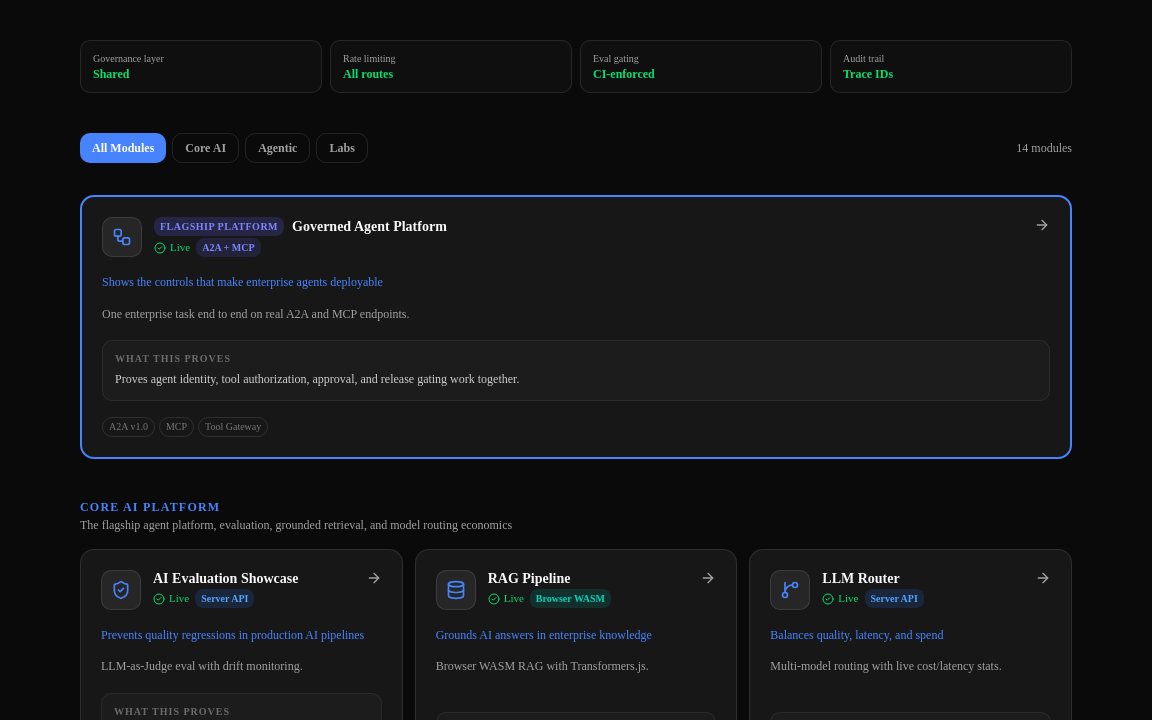
Test case: DemosGallery › clicking "Labs" filter shows only the Labs group
The width and height of the screenshot is (1152, 720).
Click the button "Labs" at coordinates (342, 148), box [316,133,368,163]
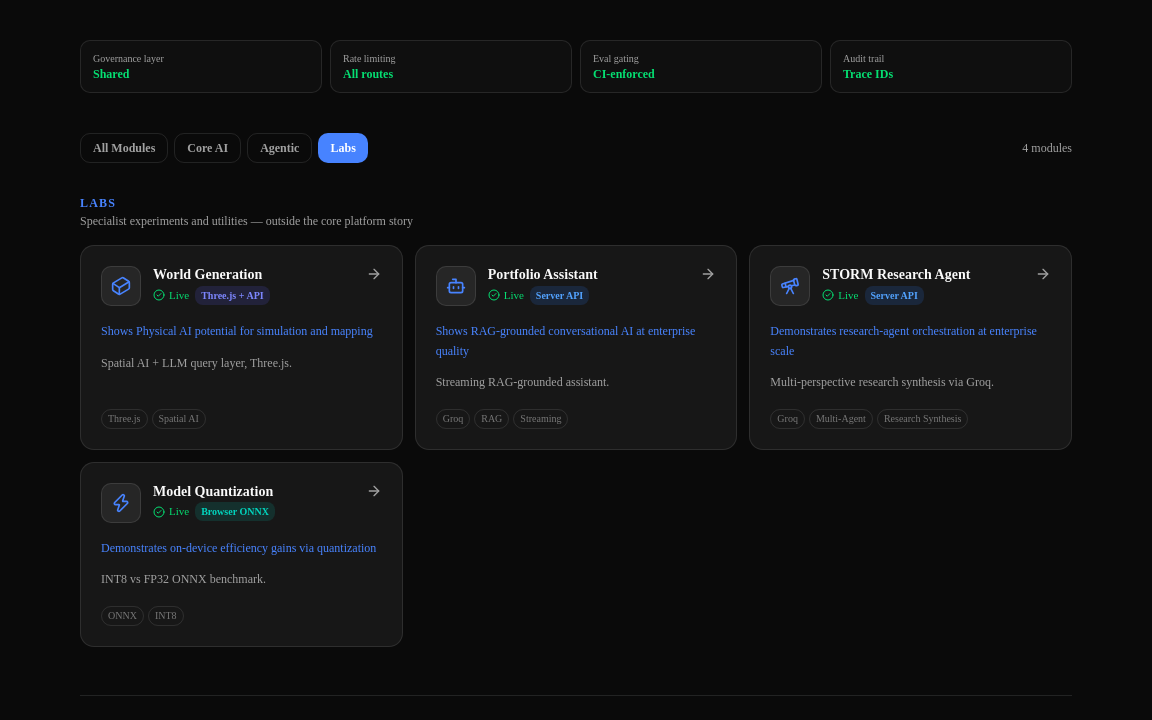
Check: the heading "Model Quantization" is shown, box [153,482,273,500]
Check: the text "Core AI Platform" is gone
